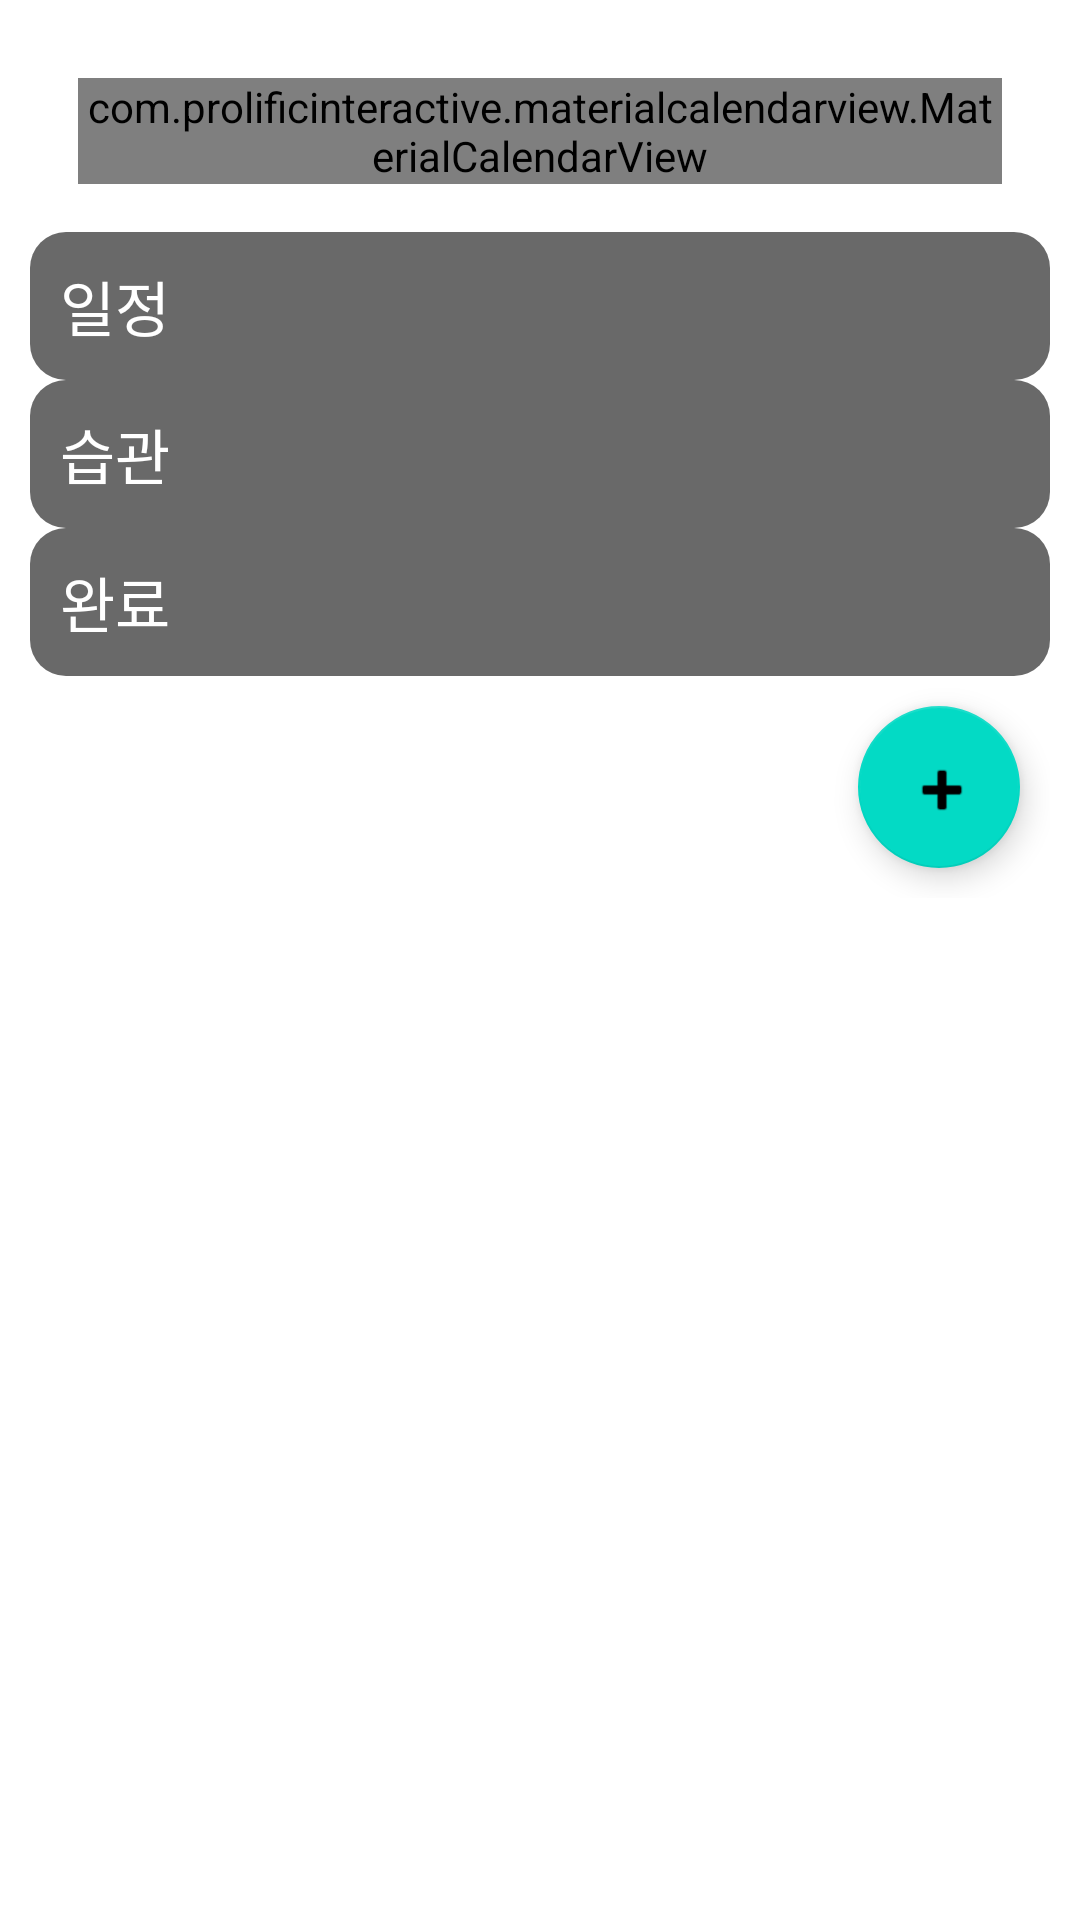

Icons on this 1080px x 1920px Android screen, each with the point to tap as point (x, y):
add: point (939, 787)
